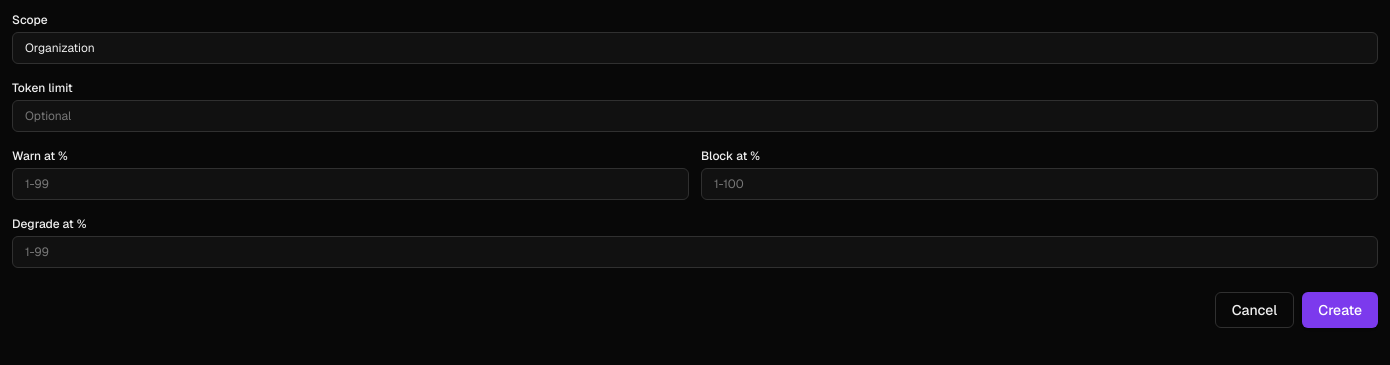
Test: PolicyEditor › rejects out of range warn_at_pct
Type "99" into the number field with placeholder "1-99" below "Warn at %" at (350, 184), box [12,168,689,200]
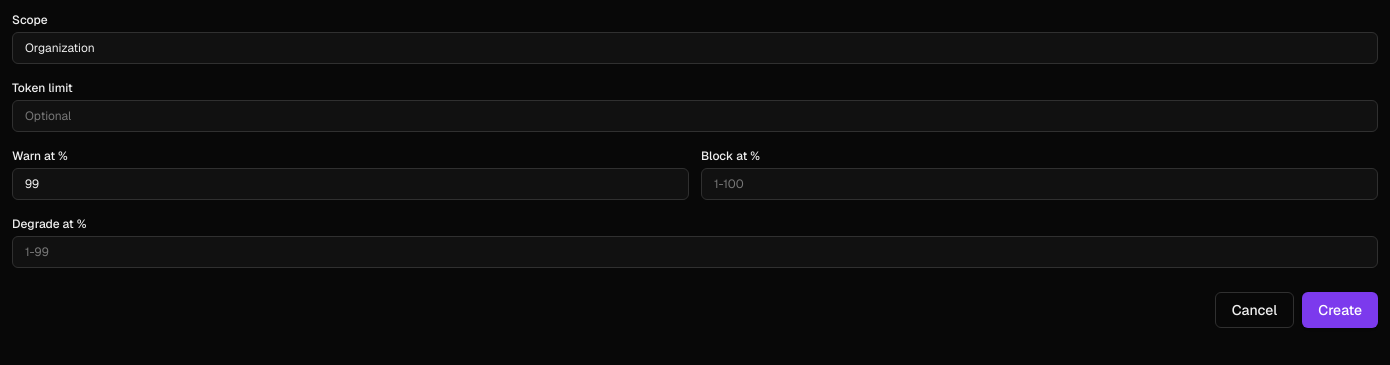
Type "50" into the number field with placeholder "1-100" at (1040, 184), box [701,168,1378,200]
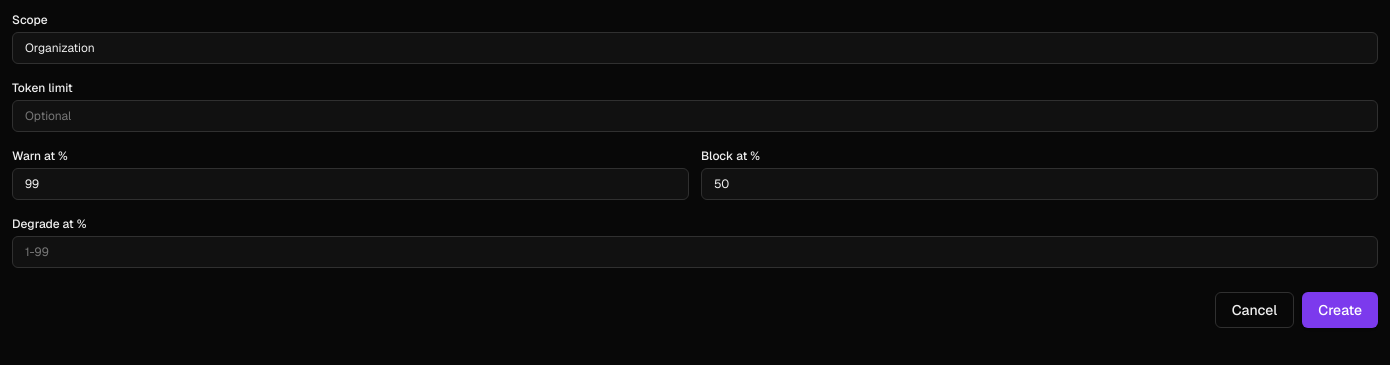
Click the button "Create" at (1340, 310), box [1302,292,1378,328]
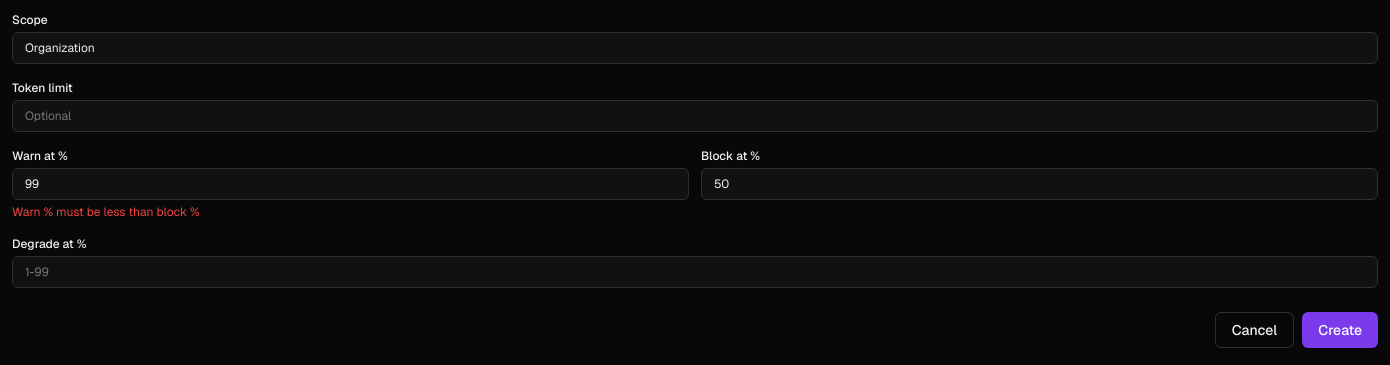
expect the text "Warn % must be less than block %" is shown: met, box [12,204,200,220]
